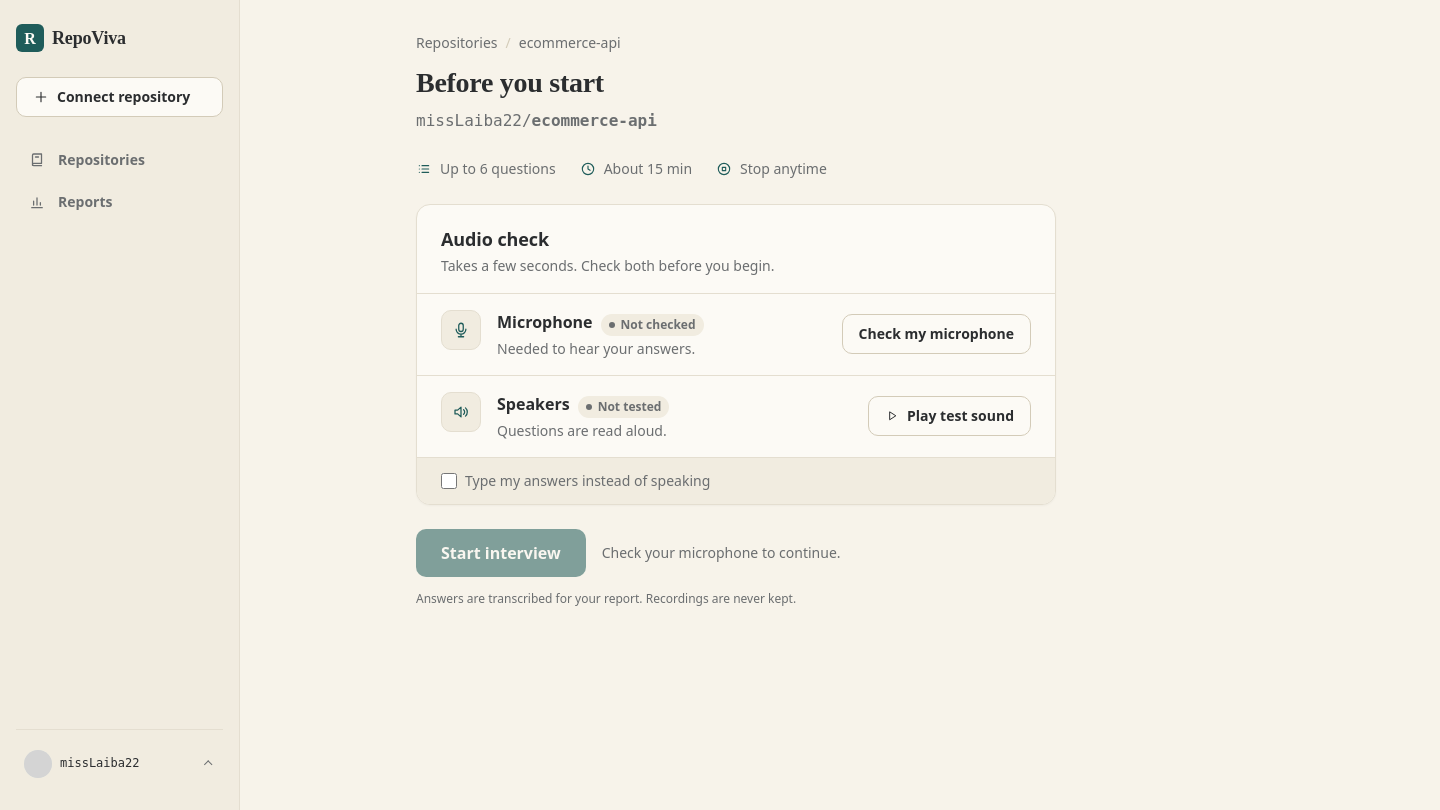
Test: interview setup › offers a microphone picker when there is more than one
What coordinates should you click on to do the following:
click the button "Check my microphone"
I would click on:
 (936, 334)
Its box is x1=842 y1=314 x2=1031 y2=354.
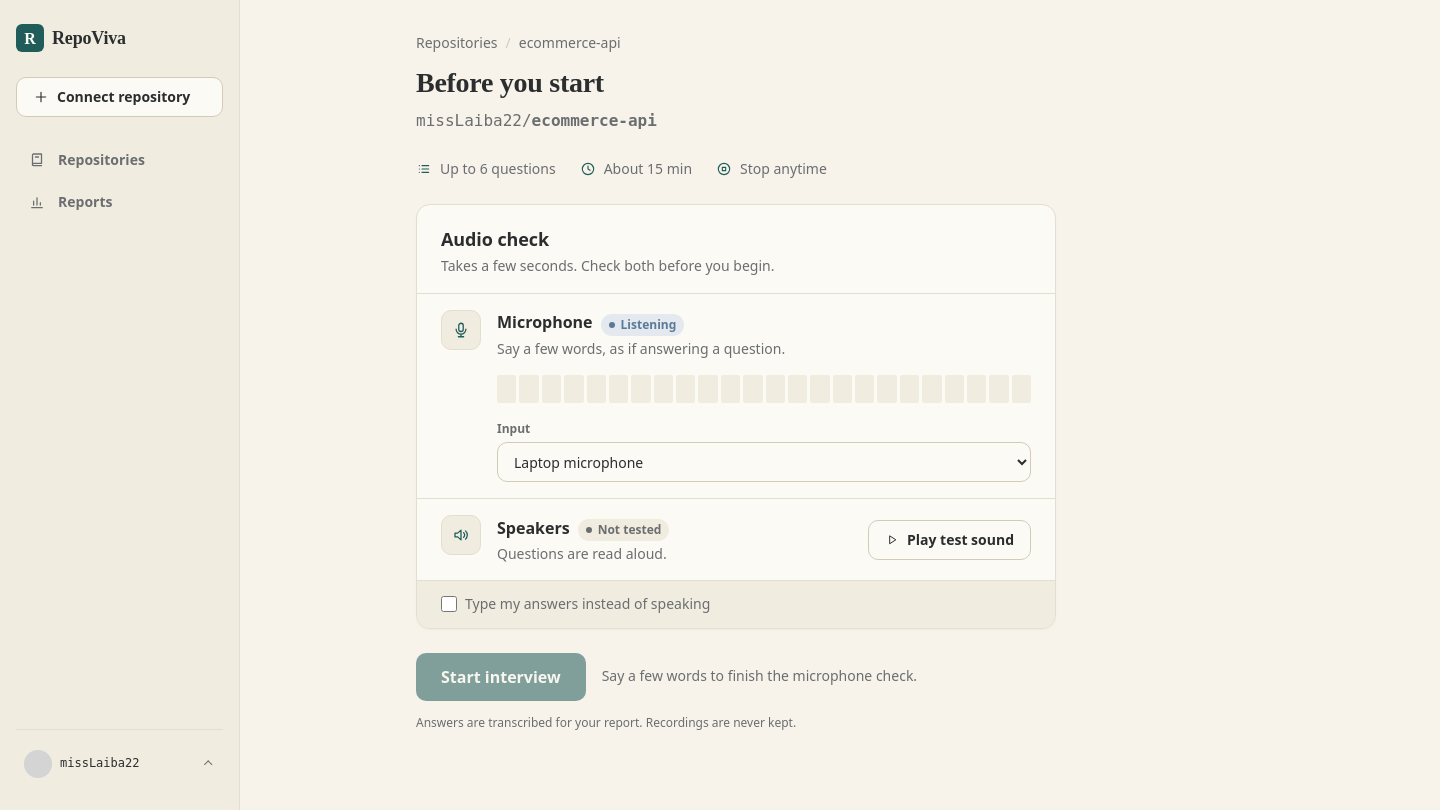
Expected: the dropdown labelled "Input" shows "Laptop microphone", x1=497 y1=442 x2=1031 y2=482
